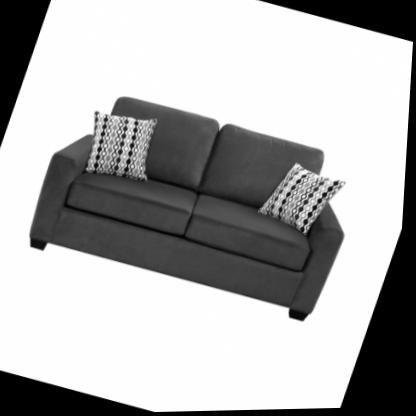Sofa: (20, 76, 379, 330)
